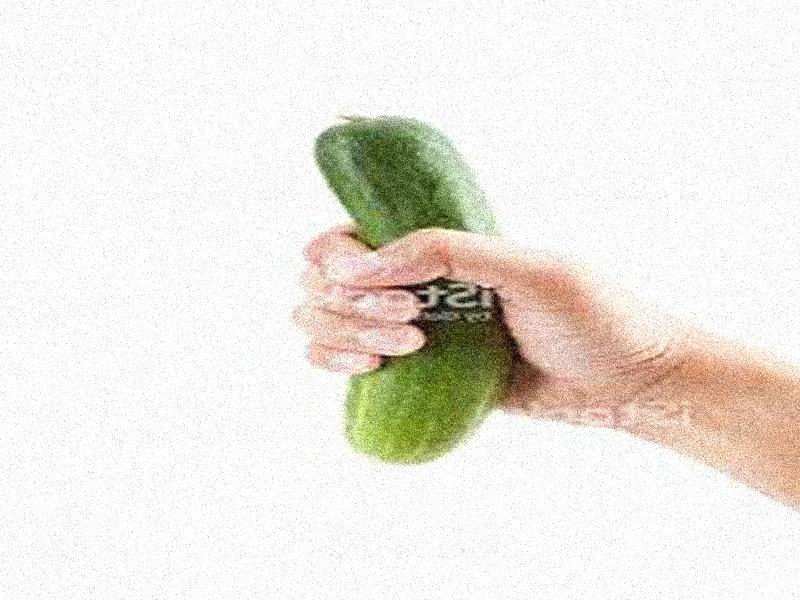Cucumber: (309, 116, 515, 463)
